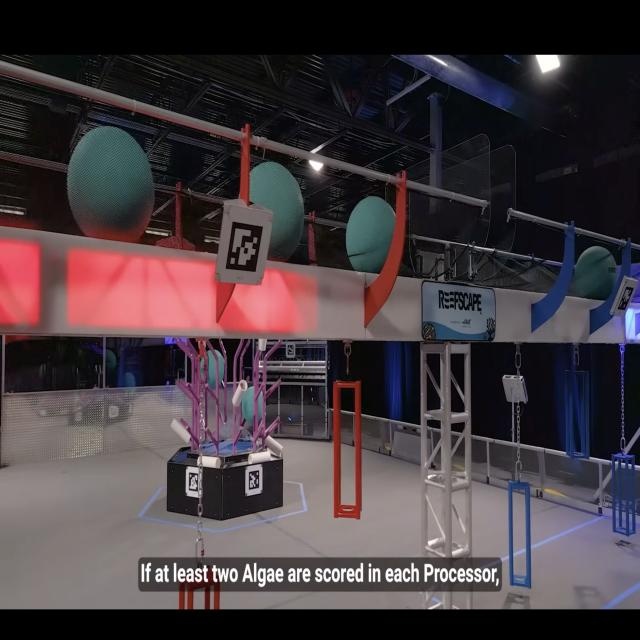algae: (65, 120, 163, 248), (244, 160, 308, 261), (343, 198, 400, 275), (574, 245, 618, 310), (198, 347, 230, 389), (243, 383, 269, 423)
coral: (166, 418, 196, 448), (194, 448, 226, 475), (264, 429, 287, 454), (232, 374, 246, 415), (245, 450, 274, 463)
